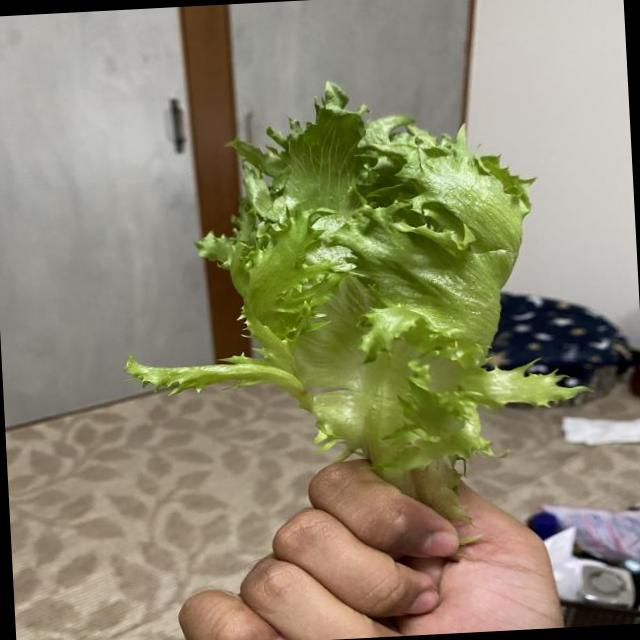Lettuce-Ready-to-Harvest: (126, 83, 580, 517)
